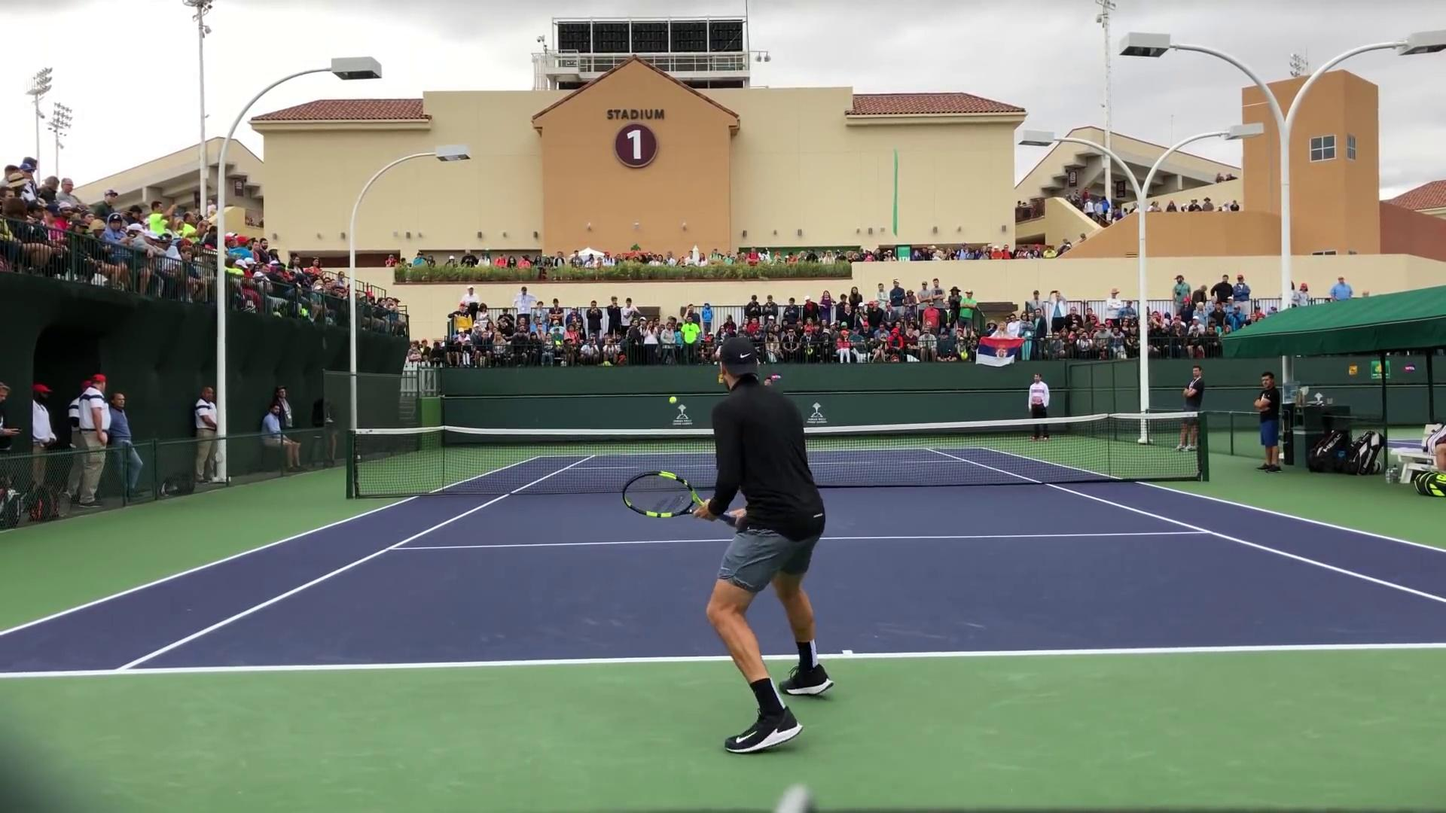ball: (667, 395, 678, 404)
